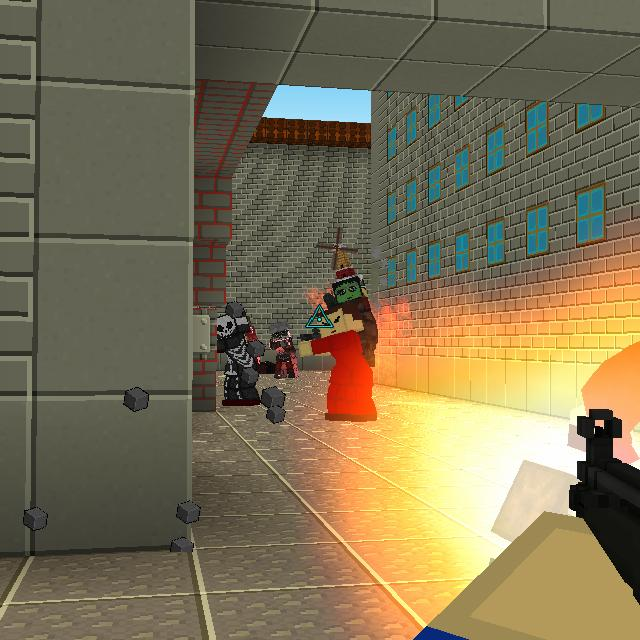enemy: (298, 301, 379, 423), (316, 225, 378, 370), (217, 310, 262, 408), (266, 319, 300, 379), (244, 316, 263, 372)
